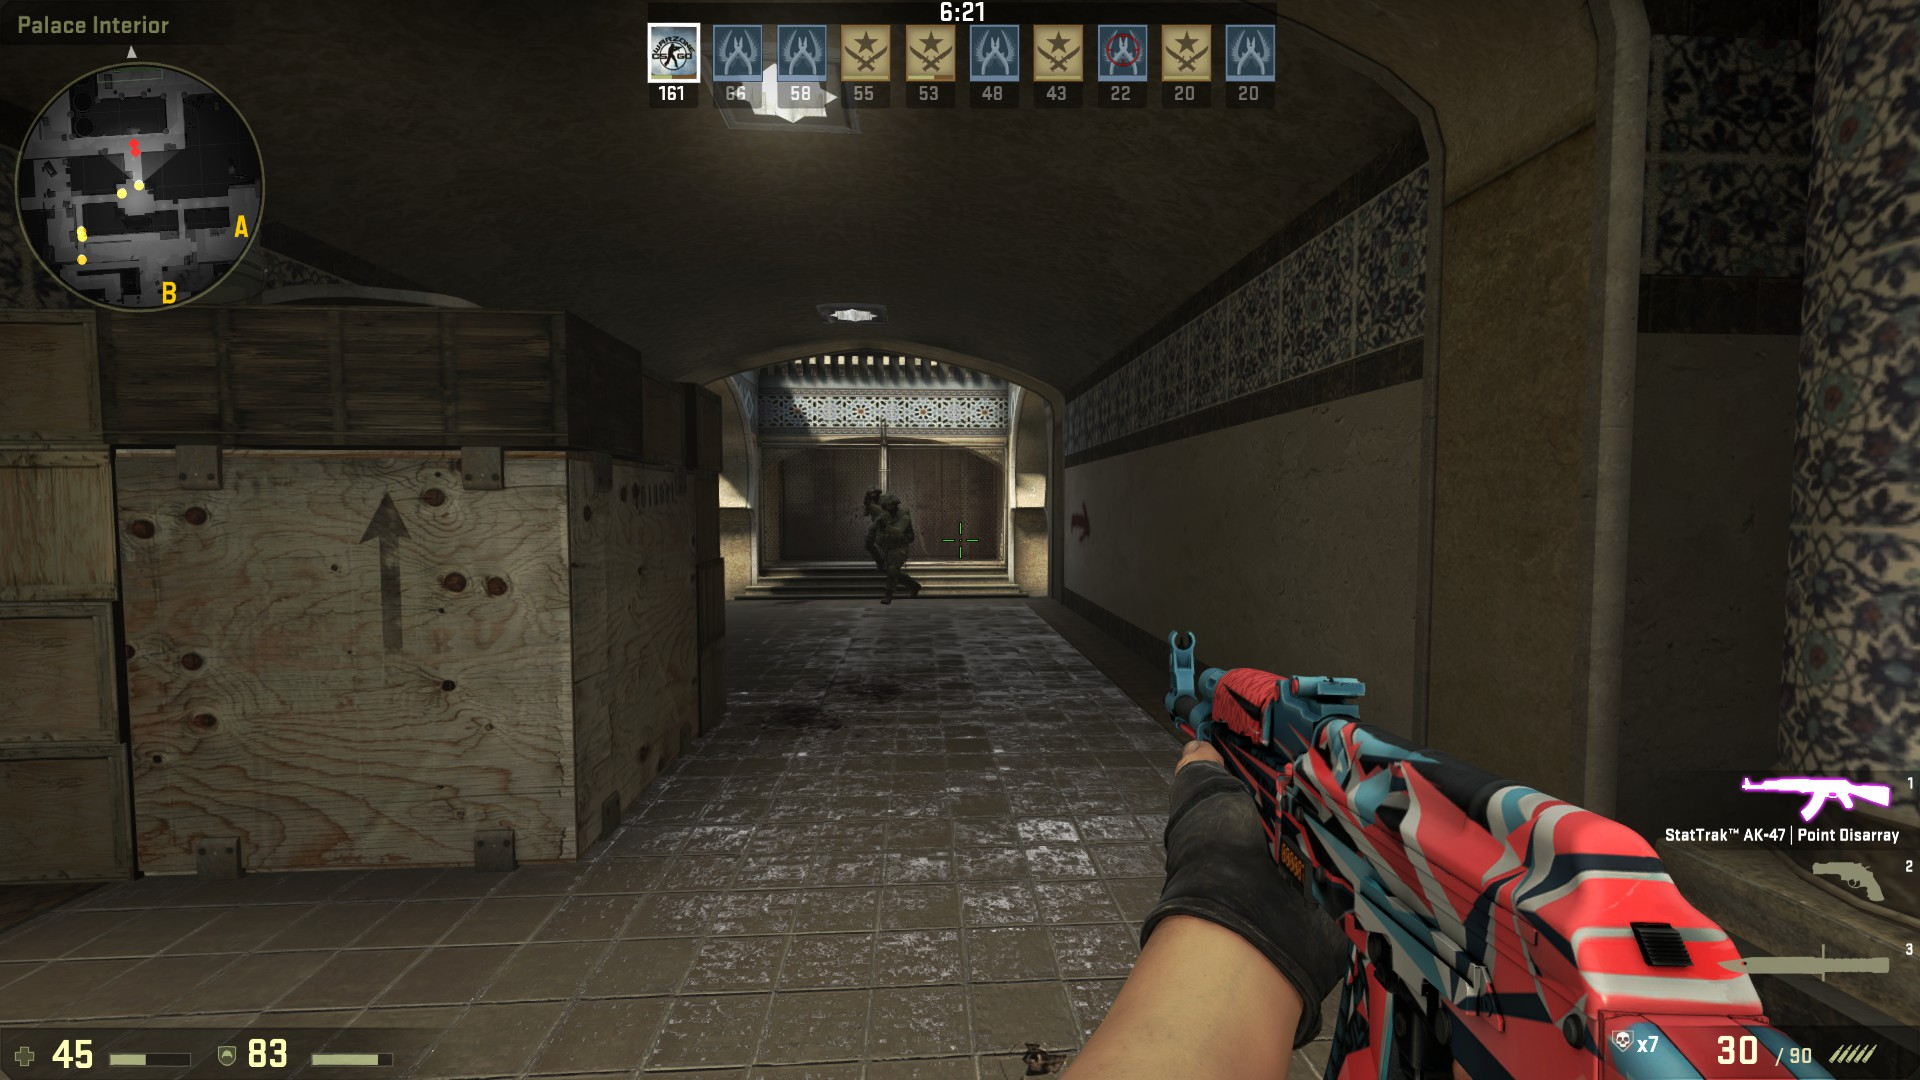c: (877, 495, 916, 607), (866, 487, 891, 568)
ch: (884, 495, 903, 516), (866, 484, 884, 504)
